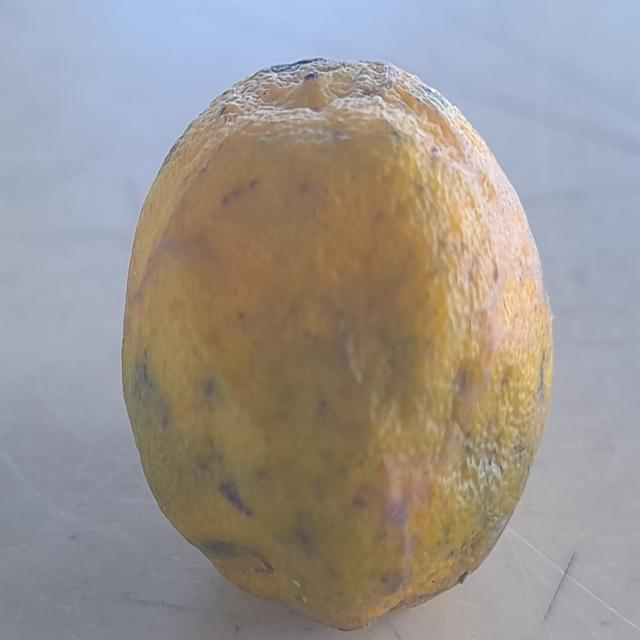black spot: (76, 31, 556, 639)
